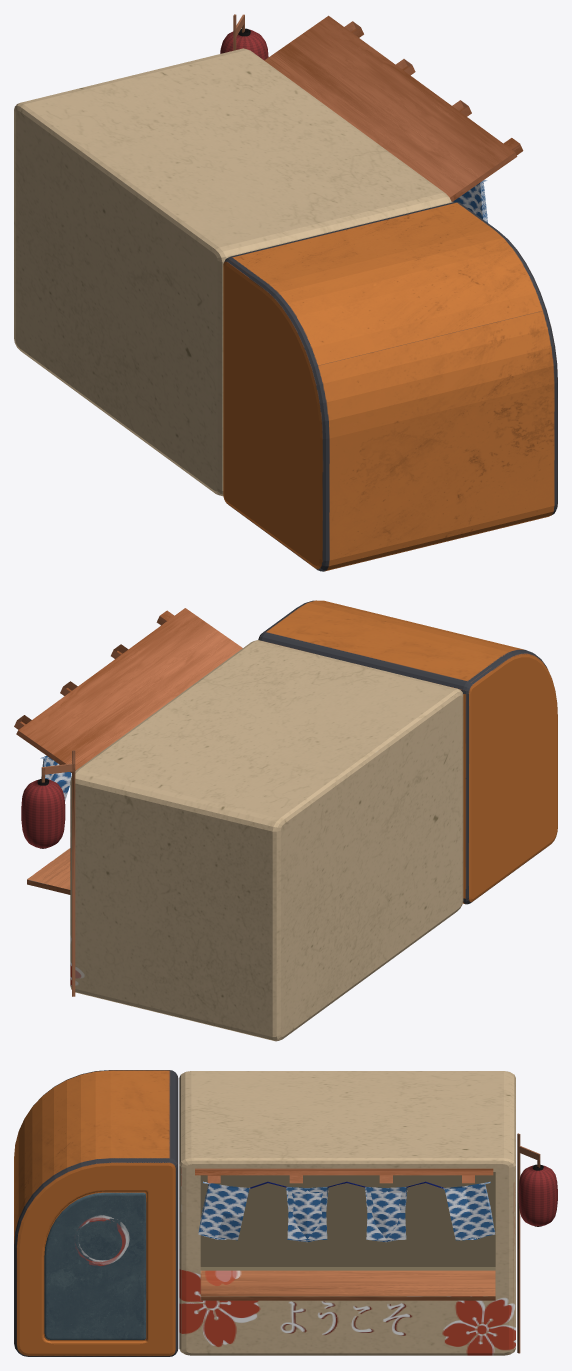
File: Food Booth1.fbx
The picture shows the model from 3 angles, top to bottom: view 1: azimuth 30°, elevation 25°; view 2: azimuth 150°, elevation 25°; view 3: azimuth 270°, elevation 25°; orthographic projection. The views are drawn at different scales.
Visible parts, largest first — view 1: Booth Head, Booth Body, Wood, Tanglung, Banner; view 2: Booth Body, Booth Head, Wood, Tanglung, Stick; view 3: Booth Body, Booth Head, Banner, Wood, Tanglung, Stick.
Boxes of the visible parts, x1,y1,x2,y2 form: Booth Head: [223, 202, 557, 571]; Booth Body: [14, 48, 451, 496]; Wood: [264, 15, 523, 201]; Tanglung: [220, 28, 268, 60]; Banner: [452, 180, 487, 222]; Booth Body: [27, 640, 463, 1041]; Booth Head: [258, 600, 557, 904]; Wood: [14, 608, 242, 772]; Tanglung: [21, 778, 65, 848]; Stick: [41, 750, 75, 996]; Booth Body: [179, 1071, 515, 1355]; Booth Head: [14, 1070, 178, 1356]; Banner: [198, 1181, 495, 1242]; Wood: [195, 1168, 493, 1183]; Tanglung: [518, 1164, 557, 1226]; Stick: [517, 1133, 540, 1353].
Size of the model in its own units: 1640 by 1350 by 3012.
